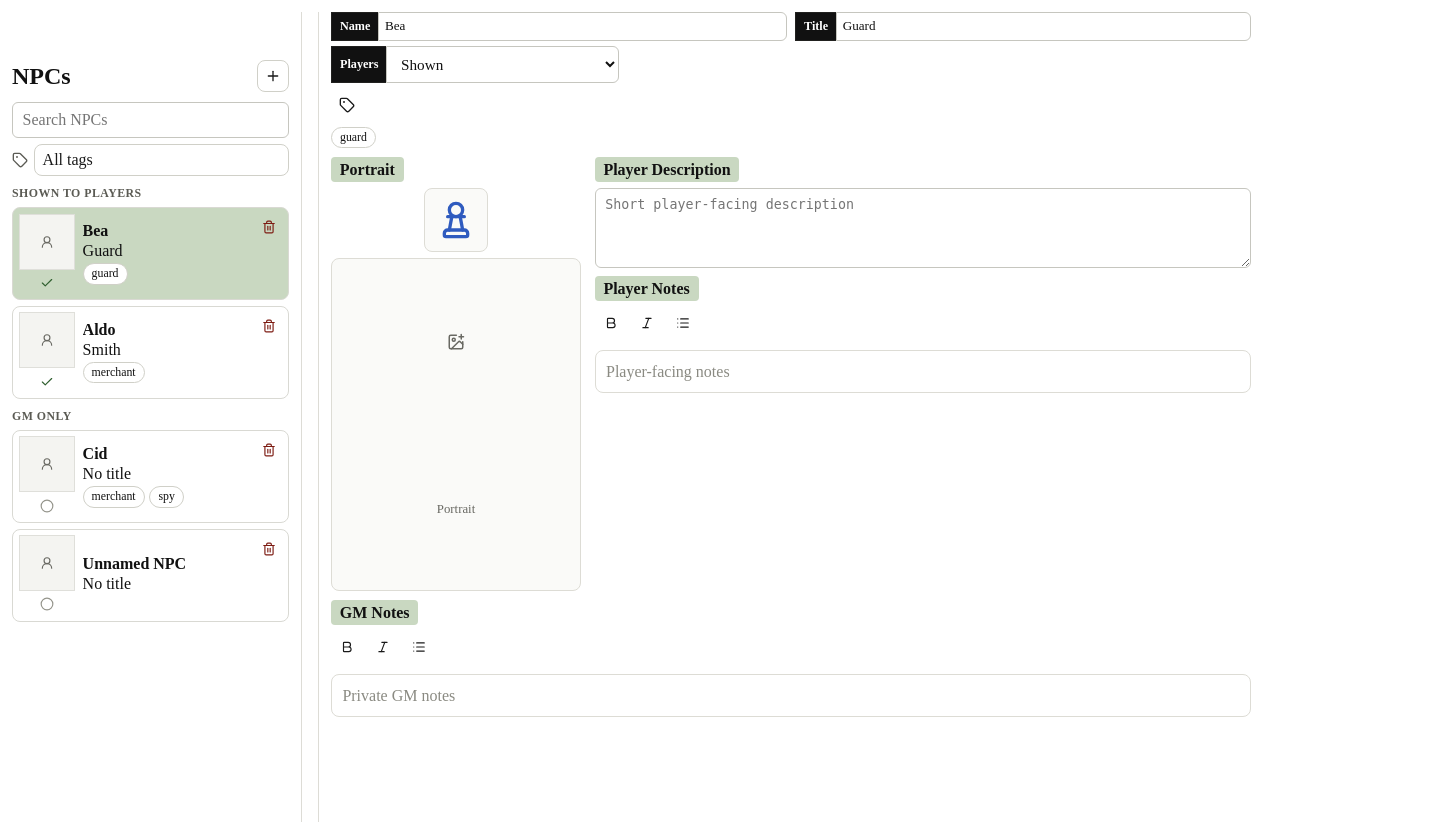
Test: searching and filtering › matches the search against name, title and tags, ignoring case and surrounding space
Type "  SMITH " into the search field labelled "Search NPCs" at (150, 120), box [12,102,289,138]
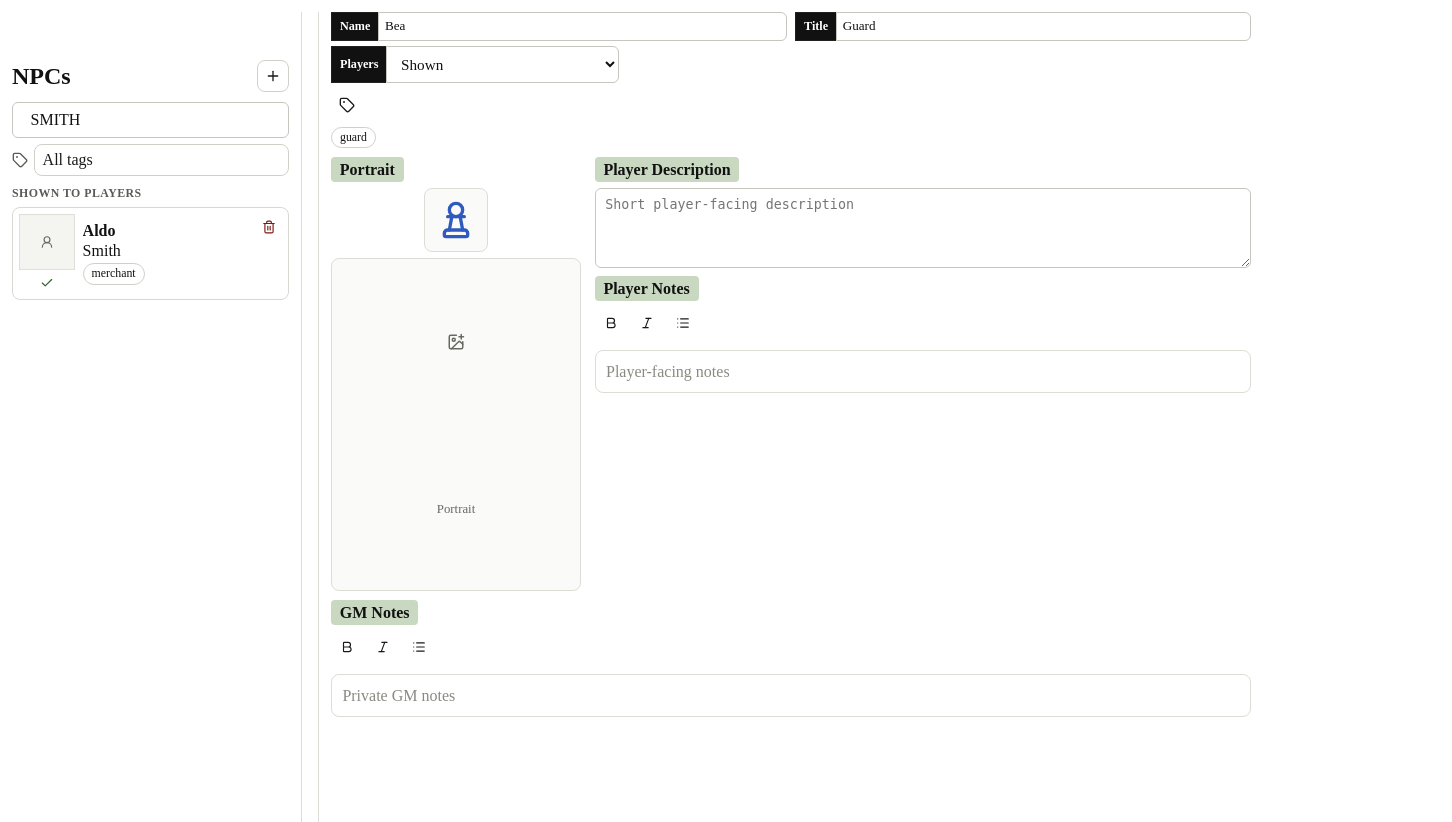
Replace the text in the search field named "Search NPCs" with "spy" at (150, 120), box [12,102,289,138]
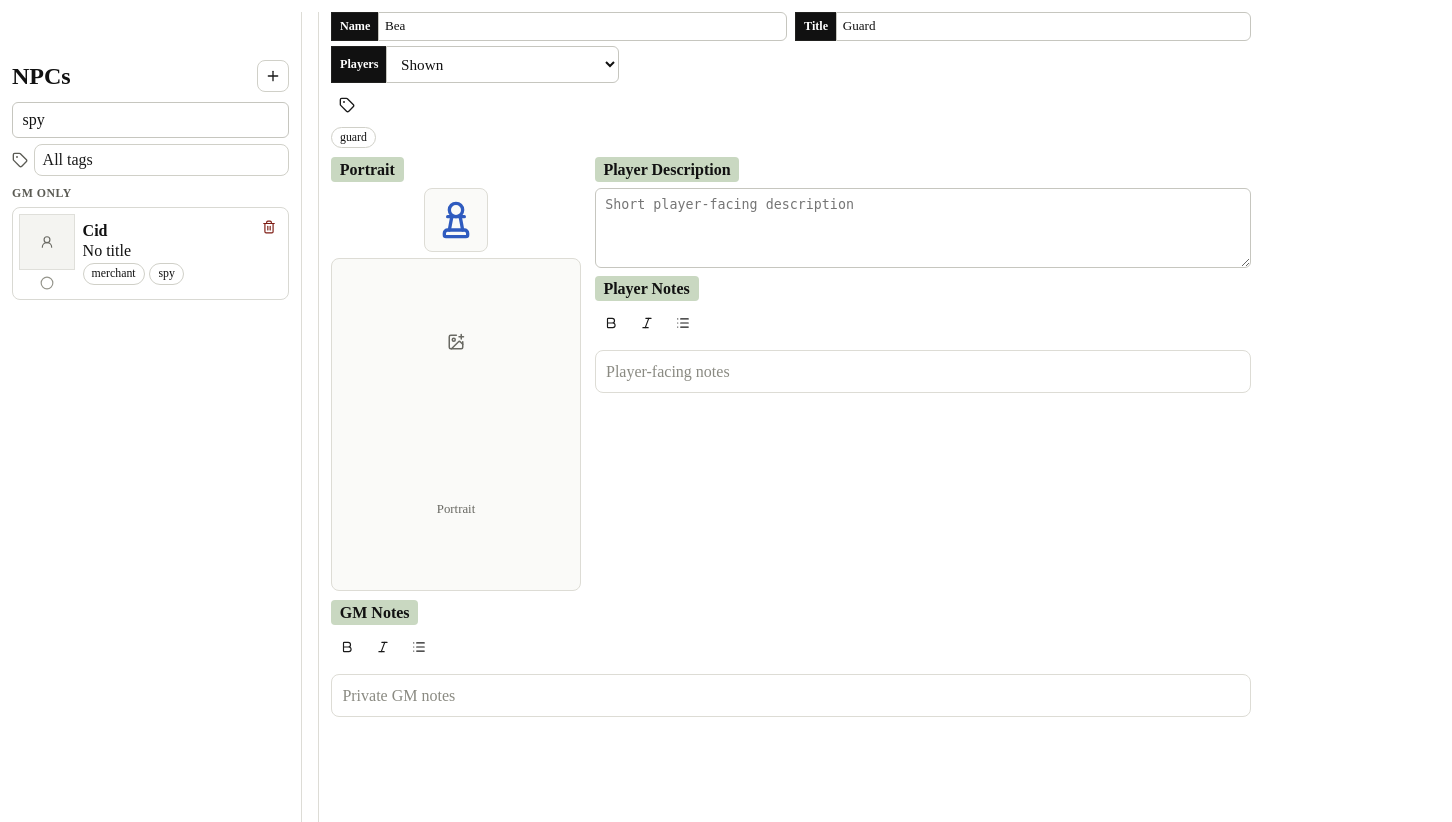
Check: the text "Shown to Players" is gone
Replace the text in the search field named "Search NPCs" with "nobody" at (150, 120), box [12,102,289,138]
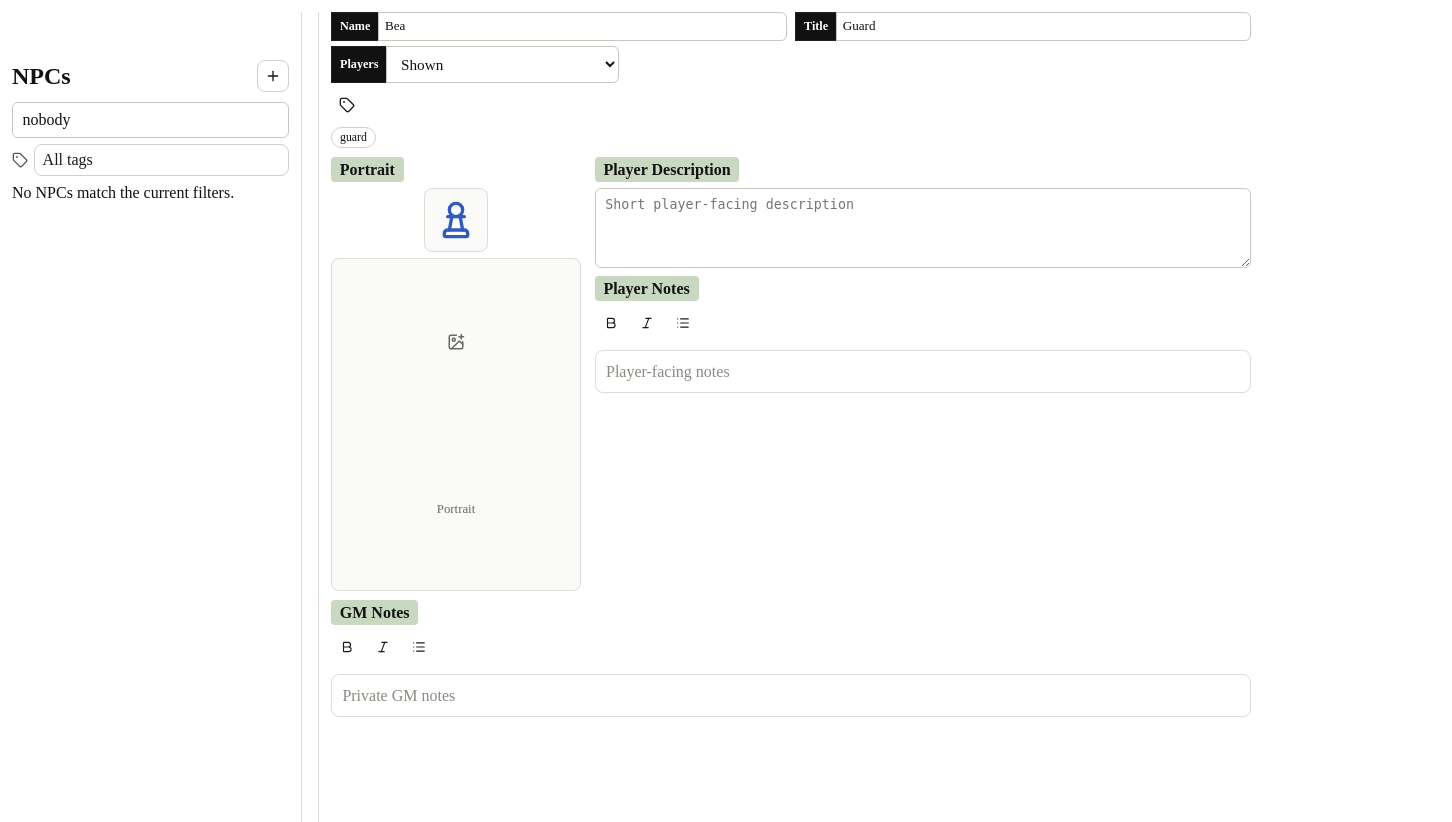
Check: the text "No NPCs match the current filters." is shown, box [12,184,234,201]
